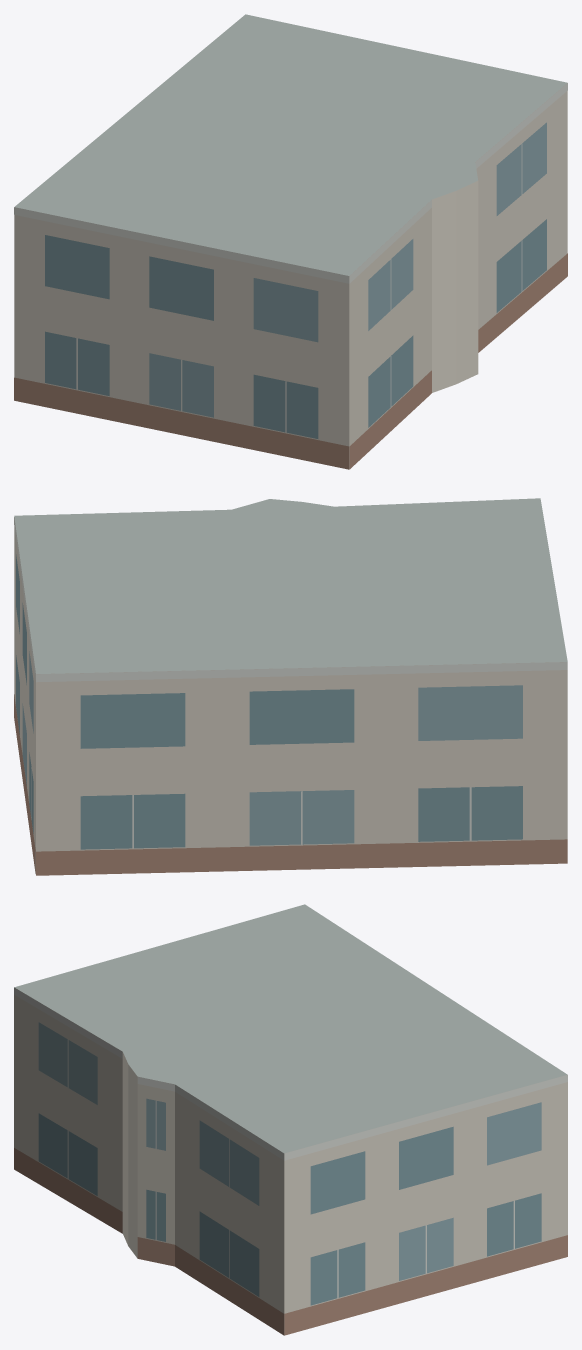
The model's file is survey-upis-32624900.glb.
3 renders of one model, top to bottom at view 1: azimuth 30°, elevation 25°; view 2: azimuth 150°, elevation 25°; view 3: azimuth 270°, elevation 25°, orthographic. The views are drawn at different scales.
Visible parts, largest first — view 1: survey-upis-32624900.tmp; view 2: survey-upis-32624900.tmp; view 3: survey-upis-32624900.tmp.
Boxes of the visible parts, box(x1,y1,x2,y2) form: survey-upis-32624900.tmp: box(14, 14, 567, 469); survey-upis-32624900.tmp: box(14, 498, 567, 875); survey-upis-32624900.tmp: box(14, 904, 567, 1335).
Size of the model in its own units: 17.91 by 6.1 by 16.82.
